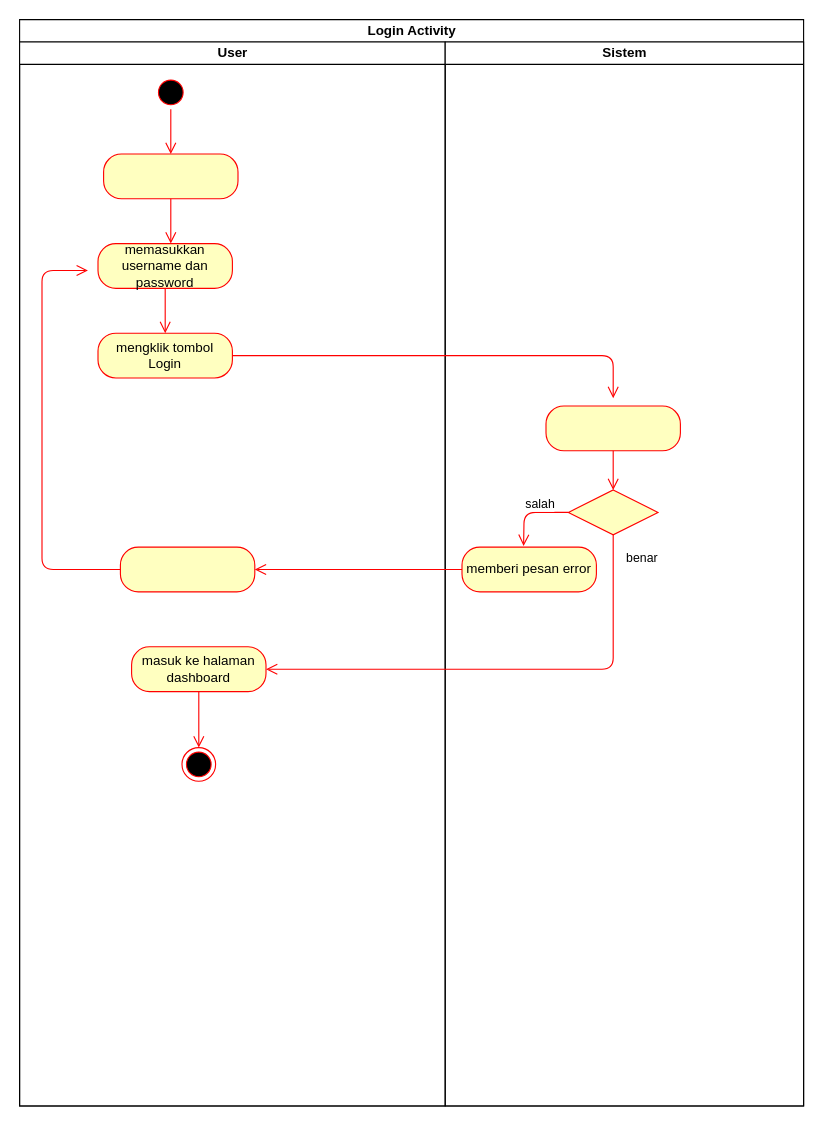
The diagram is 823 pixels wide and 1126 high, and some of its shapes have lost their labels. Each missing label, with the box of its shape:
Condition: (567, 489, 658, 535)
melakukan verifikasi: (545, 405, 680, 451)
menerima pesan error: (119, 546, 255, 592)
mengakses website: (102, 153, 238, 199)
